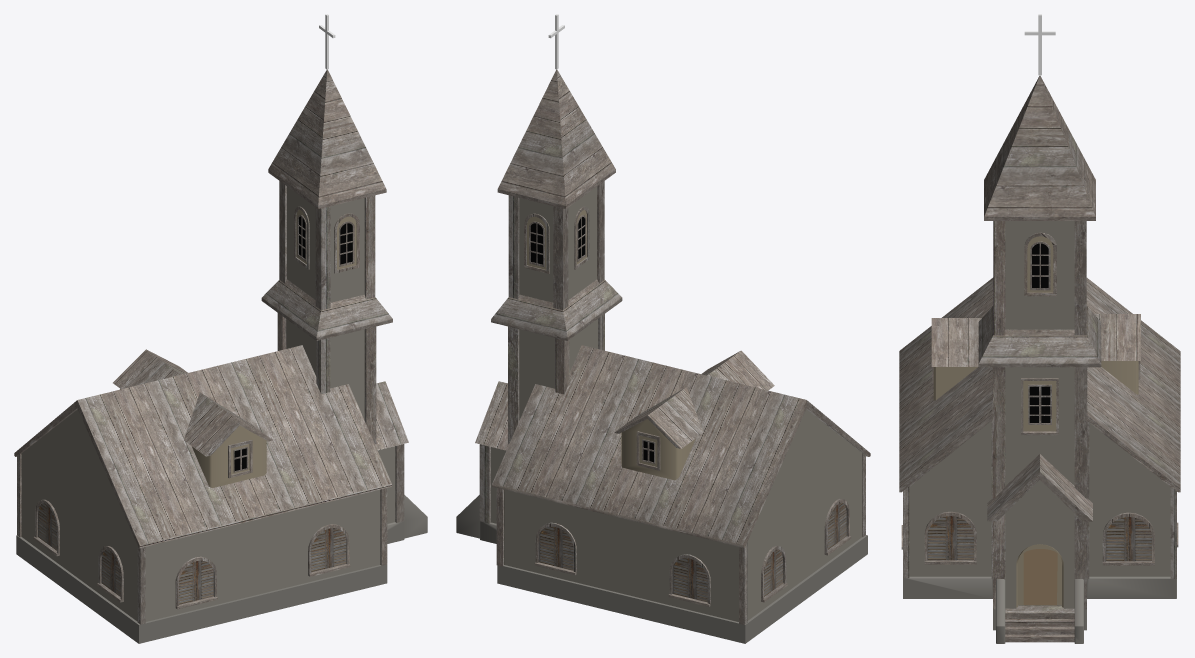
File: Church.fbx
The picture shows the model from 3 angles, left to right: view 1: azimuth 30°, elevation 25°; view 2: azimuth 150°, elevation 25°; view 3: azimuth 270°, elevation 25°; orthographic projection. The views are drawn at different scales.
Visible parts, largest first — view 1: Model; view 2: Model; view 3: Model.
Boxes of the visible parts, bbox=[...] form: Model: bbox=[14, 14, 427, 643]; Model: bbox=[456, 14, 870, 643]; Model: bbox=[899, 14, 1180, 643].
Bounding box in the file's own units: 13.63 × 20.55 × 8.96.
